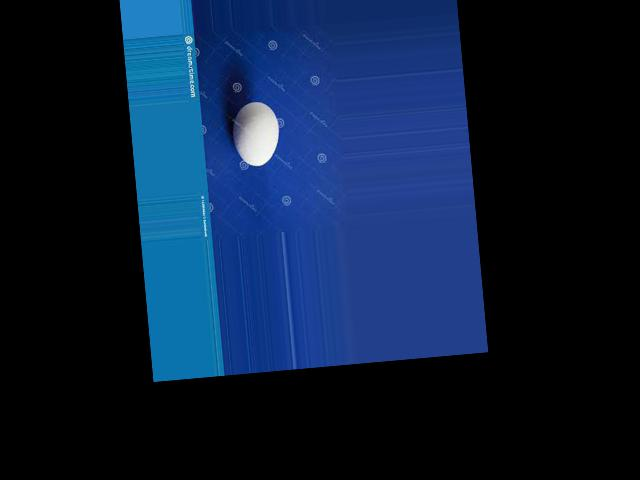egg: (230, 100, 281, 168)
